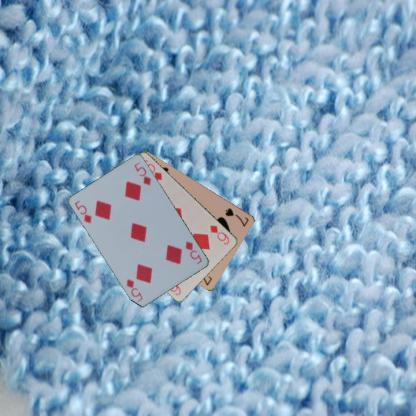5d: (182, 238, 204, 266), (72, 198, 93, 225)
6d: (208, 223, 231, 246)
7s: (223, 205, 250, 228)
